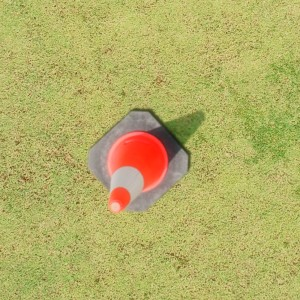traffic cone: (87, 109, 190, 214)
